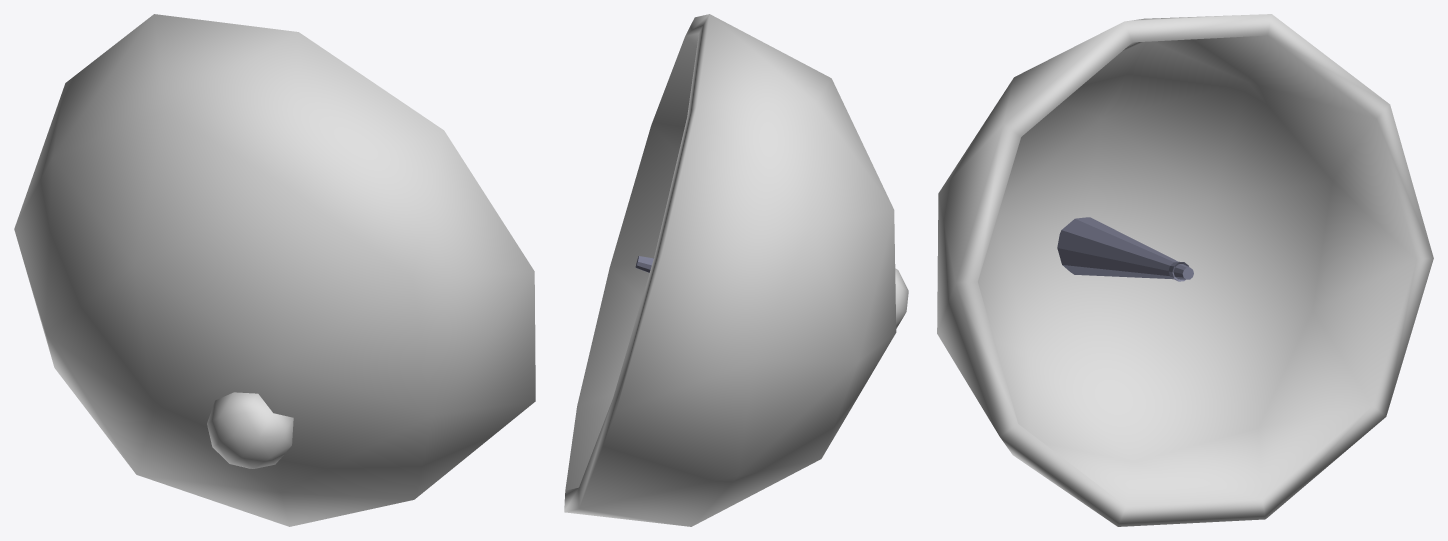
The model's file is 02_Rover_Parabolica.fbx.
3 views of the same model, side by side, from view 1: azimuth 30°, elevation 25°; view 2: azimuth 150°, elevation 25°; view 3: azimuth 270°, elevation 25° (orthographic). The views are drawn at different scales.
Visible parts, largest first — view 1: PARABOLICA; view 2: PARABOLICA; view 3: PARABOLICA.
Boxes of the visible parts, bbox=[...] form: PARABOLICA: bbox=[14, 14, 535, 526]; PARABOLICA: bbox=[564, 14, 908, 526]; PARABOLICA: bbox=[937, 14, 1433, 526].
Size of the model in its own units: 53.76 by 67.65 by 65.95.
